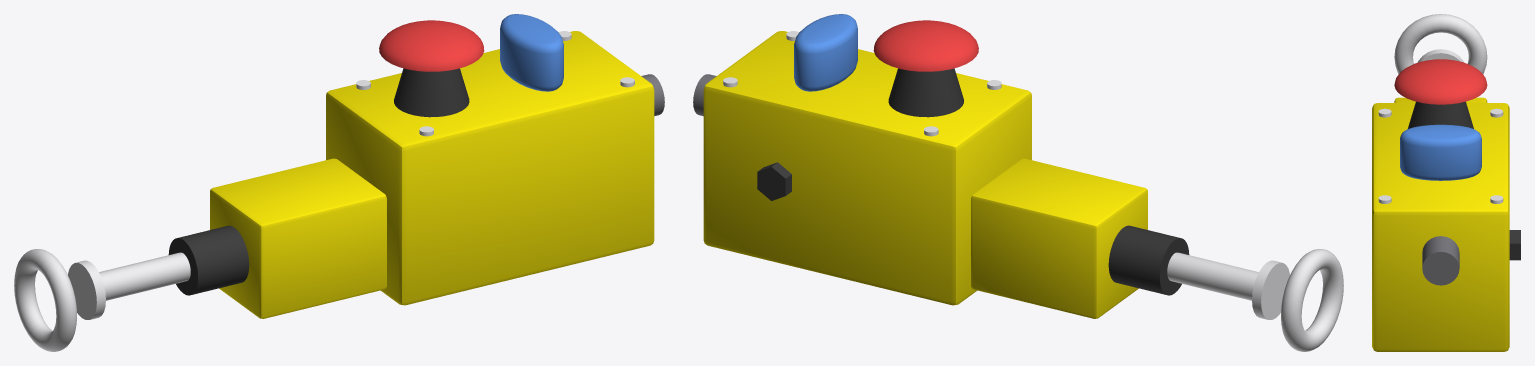
Rendered from EPC.glb.
3 renders of one model, left to right at view 1: azimuth 30°, elevation 25°; view 2: azimuth 150°, elevation 25°; view 3: azimuth 270°, elevation 25°, orthographic. The views are drawn at different scales.
Visible parts, largest first — view 1: Housing, TensionerNeck, ButtonCap, EyeboltRing, ResetLever, Boot, ButtonGaiter, EyeboltShank, Washer; view 2: Housing, TensionerNeck, ButtonCap, EyeboltRing, ResetLever, Boot, ButtonGaiter, EyeboltShank, Washer, HexPlug; view 3: Housing, ResetLever, ButtonCap, EyeboltRing, M12, ButtonGaiter, Washer, HexPlug, TensionerNeck.
Boxes of the visible parts, x1=… form: Housing: x1=326, y1=31, x2=654, y2=305; TensionerNeck: x1=210, y1=158, x2=386, y2=318; ButtonCap: x1=379, y1=20, x2=484, y2=71; EyeboltRing: x1=14, y1=249, x2=76, y2=351; ResetLever: x1=500, y1=14, x2=563, y2=91; Boot: x1=168, y1=225, x2=249, y2=295; ButtonGaiter: x1=394, y1=68, x2=469, y2=117; EyeboltShank: x1=99, y1=252, x2=190, y2=300; Washer: x1=68, y1=260, x2=105, y2=319; Housing: x1=703, y1=31, x2=1031, y2=305; TensionerNeck: x1=971, y1=158, x2=1147, y2=318; ButtonCap: x1=873, y1=20, x2=978, y2=71; EyeboltRing: x1=1281, y1=249, x2=1343, y2=351; ResetLever: x1=794, y1=14, x2=857, y2=91; Boot: x1=1108, y1=225, x2=1189, y2=295; ButtonGaiter: x1=888, y1=68, x2=963, y2=117; EyeboltShank: x1=1167, y1=252, x2=1258, y2=300; Washer: x1=1252, y1=260, x2=1289, y2=319; HexPlug: x1=757, y1=162, x2=791, y2=200; Housing: x1=1372, y1=103, x2=1509, y2=351; ResetLever: x1=1400, y1=124, x2=1481, y2=180; ButtonCap: x1=1394, y1=59, x2=1487, y2=104; EyeboltRing: x1=1394, y1=14, x2=1487, y2=74; M12: x1=1422, y1=236, x2=1459, y2=285; ButtonGaiter: x1=1408, y1=101, x2=1473, y2=128; Washer: x1=1417, y1=49, x2=1463, y2=62; HexPlug: x1=1509, y1=230, x2=1520, y2=260; TensionerNeck: x1=1394, y1=97, x2=1487, y2=102.
Bounding box in the file's own units: 0.3385 × 0.122 × 0.08.
